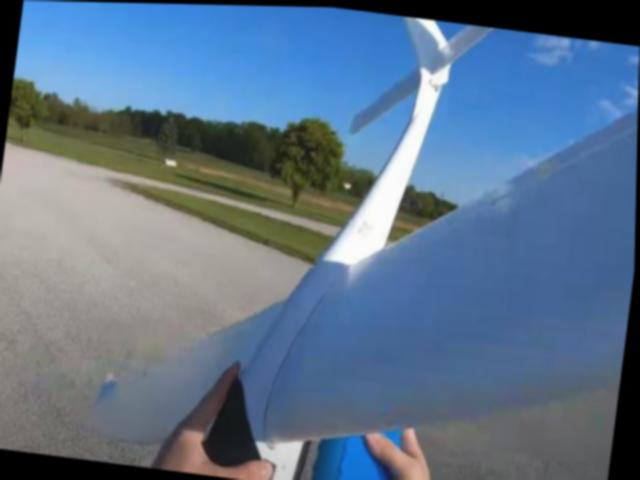iha: (82, 2, 640, 480)
